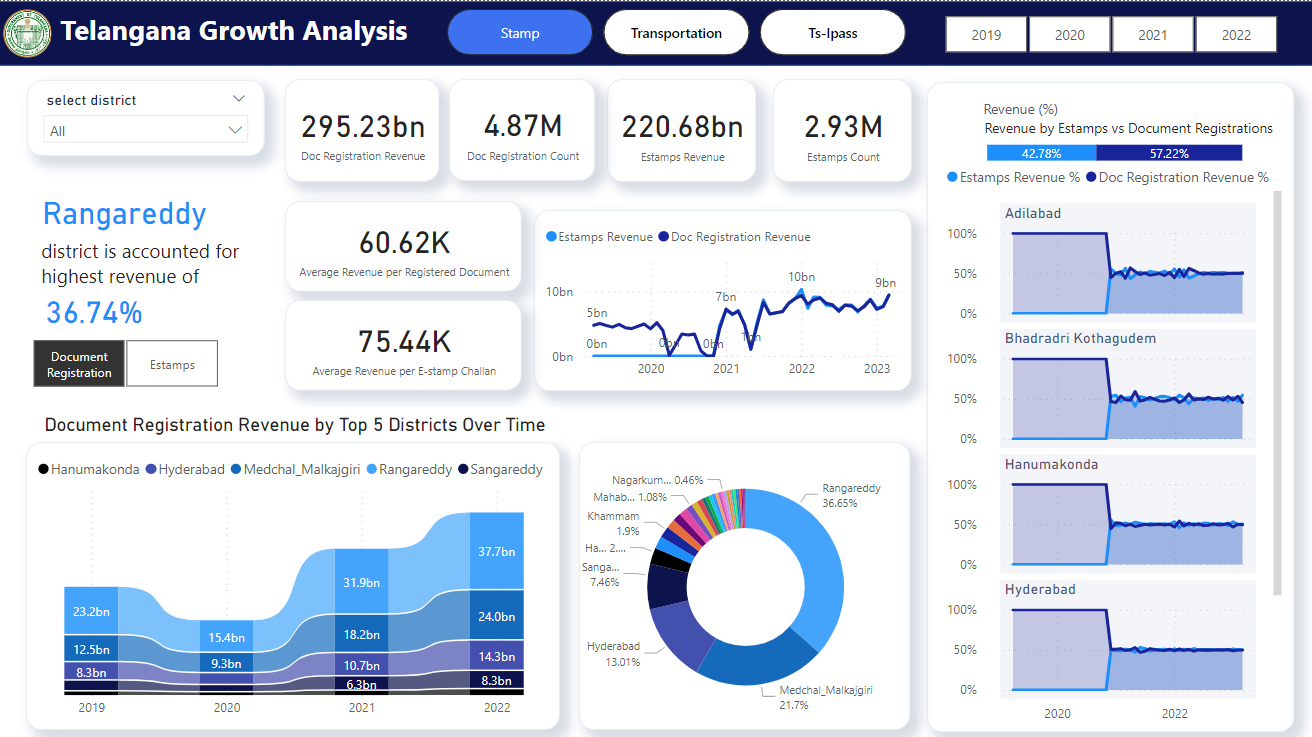

This screenshot's page, from the dashboard's own definition file:
{"tool":"powerbi","page":{"name":"Stamp","canvas":[1280,720],"ordinal":0},"visuals":[{"type":"shape","box":[0,0,1280.4,63],"z":0,"group":"g4"},{"type":"slicer","title":"Slicer District","fields":{"Values":["dim_districts.district"]},"box":[27.8,76.6,230.9,73.8],"z":0},{"type":"shape","box":[902.9,78.4,357.5,632.1],"z":0,"group":"g2"},{"type":"textbox","box":[953.3,108,300.5,36.4],"z":0,"group":"g1"},{"type":"card","fields":{"Values":["Measures (2).High Revenue District %"]},"box":[32.3,279.8,122.6,42.2],"z":0,"group":"g3"},{"type":"pageNavigator","box":[436.2,7.6,447.6,45.2],"z":1000,"group":"g5"},{"type":"textbox","box":[952.6,89.9,137.1,31.1],"z":1000,"group":"g1"},{"type":"areaChart","title":"AreaCharts Access to electricity in Urban vs Rural areas","fields":{"Rows":["dim_districts.district"],"Category":["dim_date.month"],"Y":["Measures (2).Estamps Revenue %","Measures (2).Doc Registration Revenue %"]},"box":[916.9,150.2,336.3,561.1],"z":1000,"group":"g2"},{"type":"card","fields":{"Values":["Measures (2).High Revenue District"]},"box":[30.4,174.4,185.8,59.6],"z":1000,"group":"g3"},{"type":"ribbonChart","title":"Ribbon Doc Registration Revenue by fiscal_year and district","fields":{"Series":["dim_districts.district"],"Category":["dim_date.fiscal_year"],"Y":["Measures (2).Revenue Type"]},"box":[27.5,428.7,518.5,279.9],"z":1000},{"type":"slicer","title":"Slicer Year","fields":{"Values":["dim_date.fiscal_year"]},"box":[894.9,7.6,372.1,48.8],"z":2000,"group":"g5"},{"type":"card","fields":{"Values":["Measures (2).Doc Registration Revenue"]},"box":[279.1,76.1,149.9,99.9],"z":2000},{"type":"group","id":"g1","title":"Visual text 1","box":[952.6,89.9,301.2,54.5],"z":2000,"group":"g2"},{"type":"textbox","box":[37.6,225.4,214.8,66.2],"z":2000,"group":"g3"},{"type":"card","fields":{"Values":["Measures (2).Estamps Revenue"]},"box":[591.6,76.1,145.4,99.8],"z":3000},{"type":"hundredPercentStackedBarChart","title":"% population with access to electricity in urban vs. rural locations","fields":{"Y":["Measures (2).Estamps Revenue %","Measures (2).Doc Registration Revenue %"]},"box":[956,105.5,258.2,75.9],"z":3000,"group":"g2"},{"type":"card","fields":{"Values":["Measures (2).Doc Registration Count"]},"box":[437.9,76.1,142.2,98.7],"z":4000},{"type":"card","fields":{"Values":["Measures (2).Estamps Count"]},"box":[753.2,76.1,134.5,99.8],"z":5000},{"type":"group","id":"g2","title":"RHS charts","box":[902.9,78.4,357.5,633],"z":6000},{"type":"lineChart","title":"Line Chart Doc Registration Revenue and Estamps Revenue by Year and Month","fields":{"Category":["dim_date.month.Variation.Date Hierarchy.Year","dim_date.month.Variation.Date Hierarchy.Month"],"Y":["Measures (2).Estamps Revenue","Measures (2).Doc Registration Revenue"]},"box":[521,203.1,366.6,175.7],"z":7000},{"type":"donutChart","title":"Donut Total Revenue by district","fields":{"Category":["dim_districts.district"],"Y":["Measures (2).Revenue Type"]},"box":[565.1,428.4,322.1,280.3],"z":8000},{"type":"group","id":"g3","title":"Summary","box":[30.4,174.4,221.9,147.5],"z":9000},{"type":"group","id":"g4","title":"Header","box":[0,0,1280.4,63],"z":10000},{"type":"group","id":"g5","title":"Group 2","box":[436.2,7.6,830.8,48.8],"z":11000,"group":"g4"},{"type":"card","fields":{"Values":["Measures (2).Average Revenue per Registered Document"]},"box":[279.1,194.5,230.2,88.3],"z":11000},{"type":"group","id":"g6","title":"Group 1","box":[0,0,410.1,63],"z":11500,"group":"g4"},{"type":"card","fields":{"Values":["Measures (2).Average Revenue per E-stamp Challan"]},"box":[279.1,290.4,230.2,88.3],"z":12000},{"type":"slicer","fields":{"Values":["Set Revenue Type.Types"]},"box":[8.6,322.9,229,59.4],"z":13000},{"type":"card","fields":{"Values":["Measures (2).Ribbon Heading"]},"box":[30.7,394.7,515.4,33.5],"z":14000},{"type":"textbox","box":[48.3,4.1,361.8,49.7],"z":14500,"group":"g6"},{"type":"image","title":"ImageLOGO","box":[0,0,56.7,63],"z":15000,"group":"g6"}]}

Visuals, with their boxes in screenshot pixels (x1, y1, x2, y2), scaled from the page's 1280x720 canvas onto the 1312x737 screenshot:
shape: detection(0, 0, 1311, 64)
"Slicer District" slicer: detection(28, 78, 265, 154)
shape: detection(925, 80, 1292, 727)
textbox: detection(977, 111, 1285, 148)
card - Measures (2).High Revenue District %: detection(33, 286, 159, 330)
pageNavigator: detection(447, 8, 906, 54)
textbox: detection(976, 92, 1117, 124)
"AreaCharts Access to electricity in Urban vs Rural areas" areaChart: detection(940, 154, 1285, 728)
card - Measures (2).High Revenue District: detection(31, 179, 222, 240)
"Ribbon Doc Registration Revenue by fiscal_year and district" ribbonChart: detection(28, 439, 560, 725)
"Slicer Year" slicer: detection(917, 8, 1299, 58)
card - Measures (2).Doc Registration Revenue: detection(286, 78, 440, 180)
"Visual text 1" group: detection(976, 92, 1285, 148)
textbox: detection(39, 231, 259, 298)
card - Measures (2).Estamps Revenue: detection(606, 78, 755, 180)
"% population with access to electricity in urban vs. rural locations" hundredPercentStackedBarChart: detection(980, 108, 1245, 186)
card - Measures (2).Doc Registration Count: detection(449, 78, 595, 179)
card - Measures (2).Estamps Count: detection(772, 78, 910, 180)
"RHS charts" group: detection(925, 80, 1292, 728)
"Line Chart Doc Registration Revenue and Estamps Revenue by Year and Month" lineChart: detection(534, 208, 910, 388)
"Donut Total Revenue by district" donutChart: detection(579, 439, 909, 725)
"Summary" group: detection(31, 179, 259, 330)
"Header" group: detection(0, 0, 1311, 64)
"Group 2" group: detection(447, 8, 1299, 58)
card - Measures (2).Average Revenue per Registered Document: detection(286, 199, 522, 289)
"Group 1" group: detection(0, 0, 420, 64)
card - Measures (2).Average Revenue per E-stamp Challan: detection(286, 297, 522, 388)
slicer - Set Revenue Type.Types: detection(9, 331, 244, 391)
card - Measures (2).Ribbon Heading: detection(31, 404, 560, 438)
textbox: detection(50, 4, 420, 55)
"ImageLOGO" image: detection(0, 0, 58, 64)
